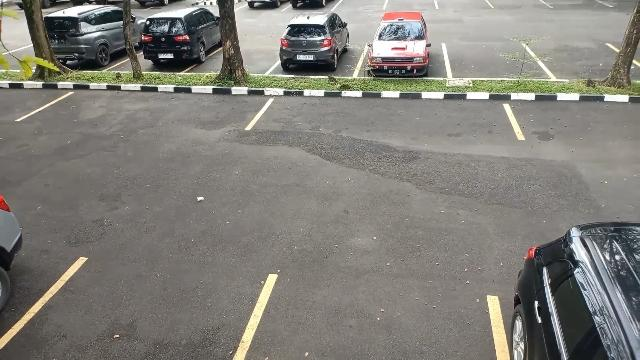empty: (262, 86, 520, 140), (40, 86, 264, 132), (542, 40, 638, 80), (448, 38, 540, 78)
occupied: (270, 22, 362, 76), (48, 15, 130, 72), (361, 24, 447, 77), (140, 16, 220, 72)
